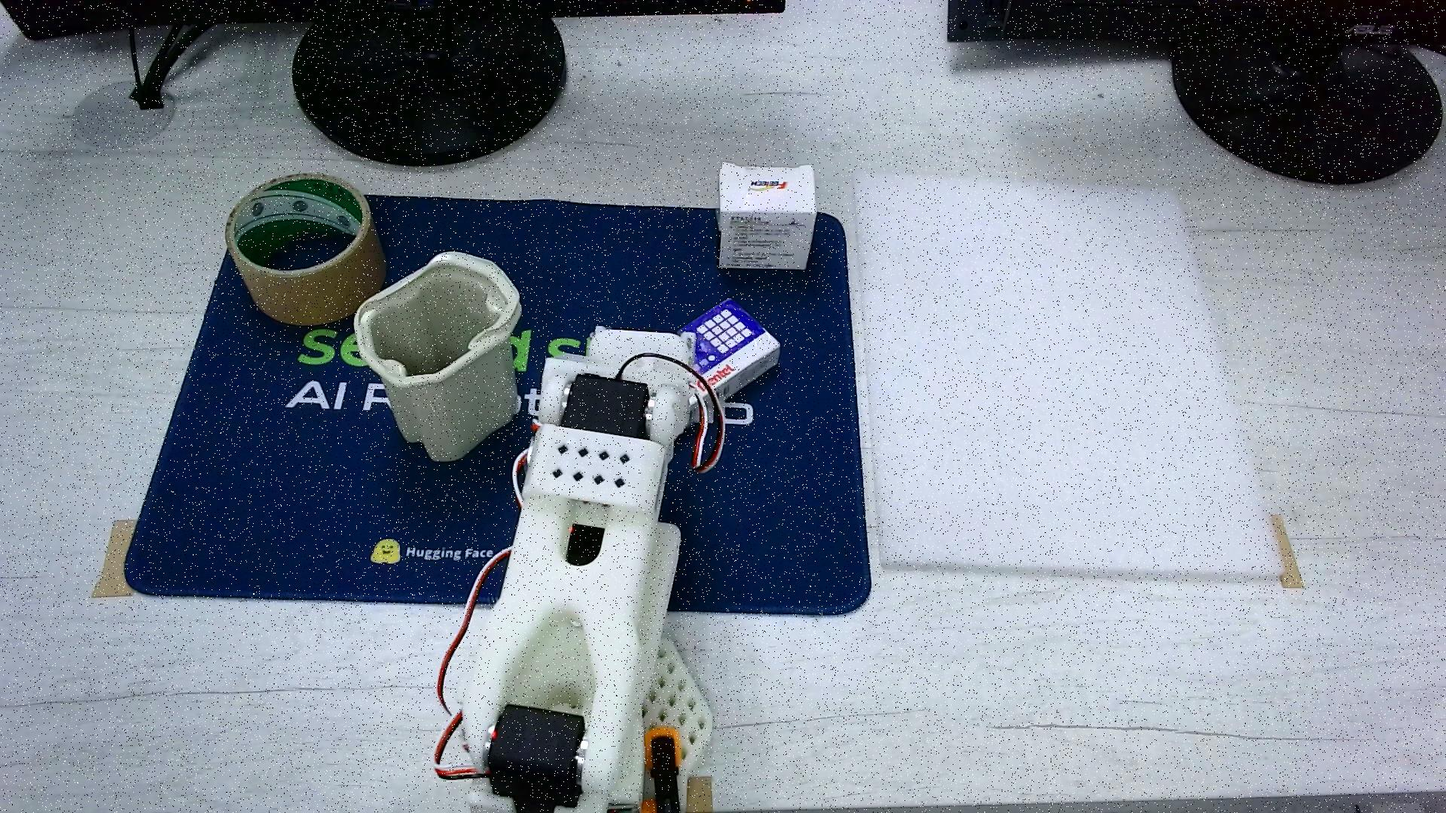eraser: (717, 162, 819, 269)
